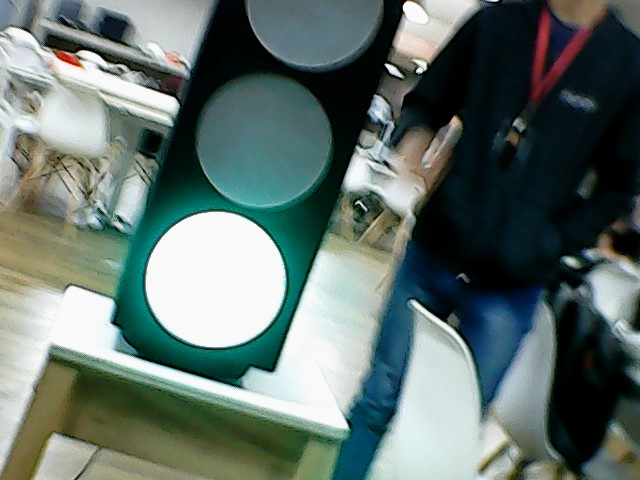verde: (92, 1, 428, 392)
